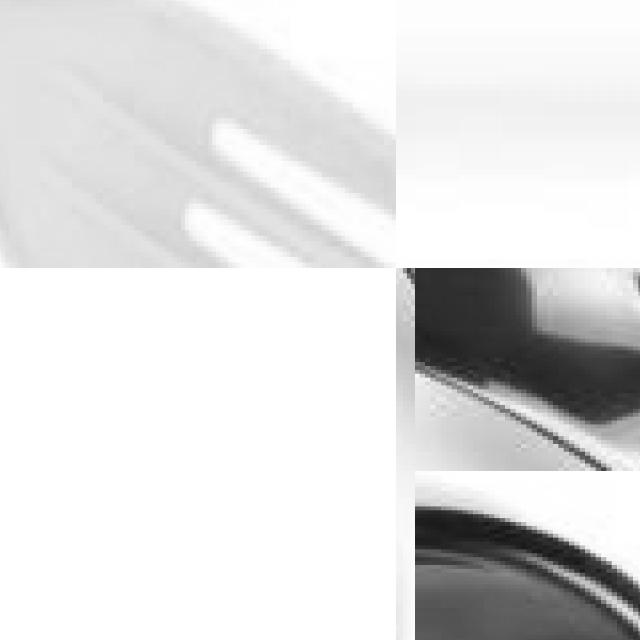forks: (0, 0, 396, 268)
spoons: (396, 355, 532, 640)
